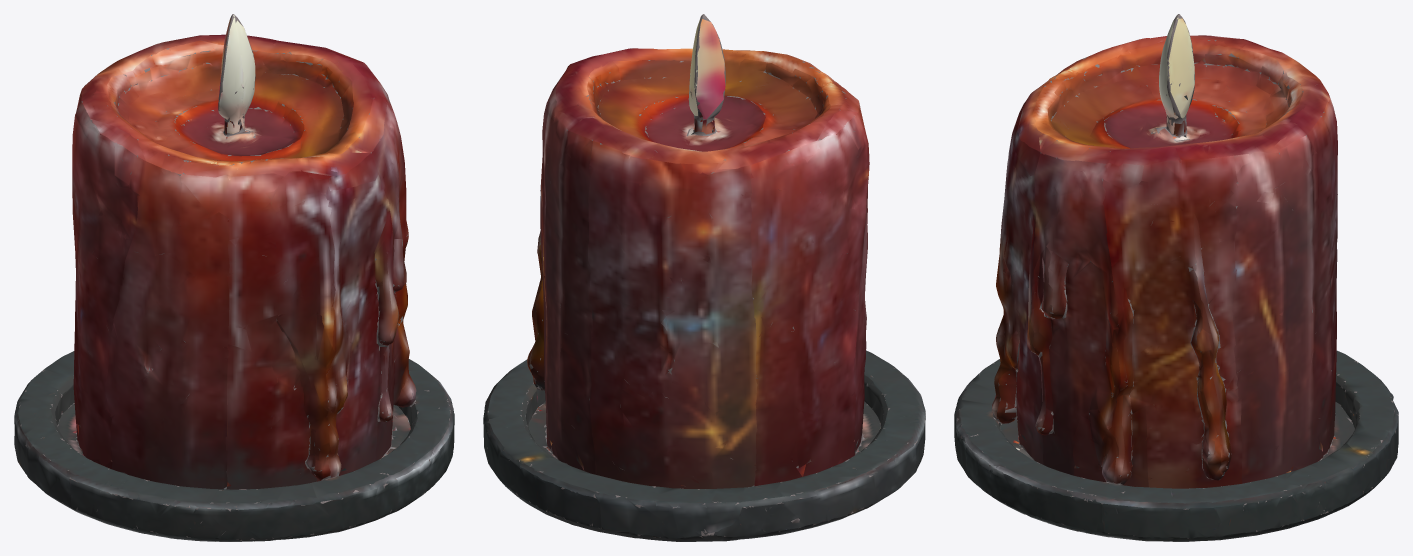
File: blood-red-pillar-candle-optimized.glb
3 renders of one model, left to right at view 1: azimuth 30°, elevation 25°; view 2: azimuth 150°, elevation 25°; view 3: azimuth 270°, elevation 25°, orthographic.
Visible parts, largest first — view 1: geometry_0; view 2: geometry_0; view 3: geometry_0.
Part boxes in pixels (left/top/right/bottom): geometry_0: left=14, top=14, right=454, bottom=541; geometry_0: left=483, top=14, right=925, bottom=541; geometry_0: left=954, top=14, right=1398, bottom=541.
Size of the model in its own units: 0.1097 by 0.12 by 0.1103.
Materials: 1 (1 with a texture image).
